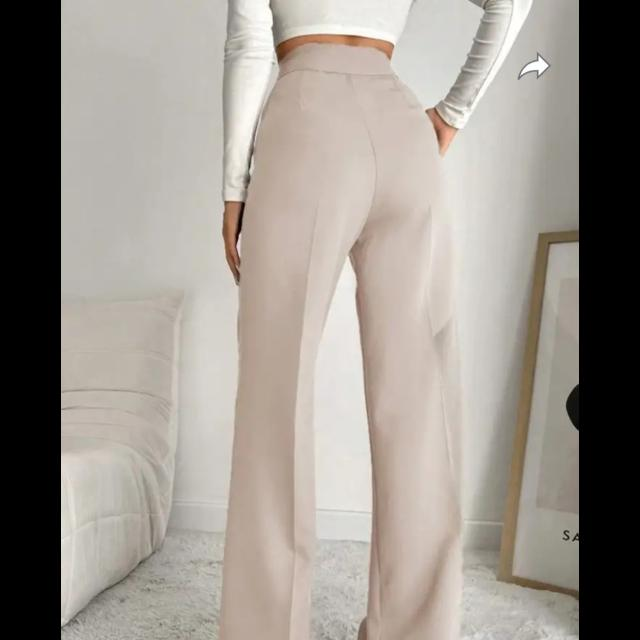bottom: (231, 51, 465, 639)
top: (269, 3, 407, 63)
